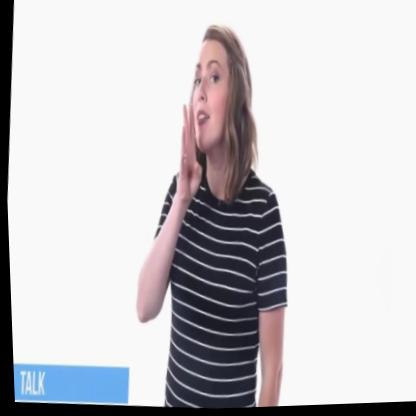Talk: (167, 16, 256, 232)
